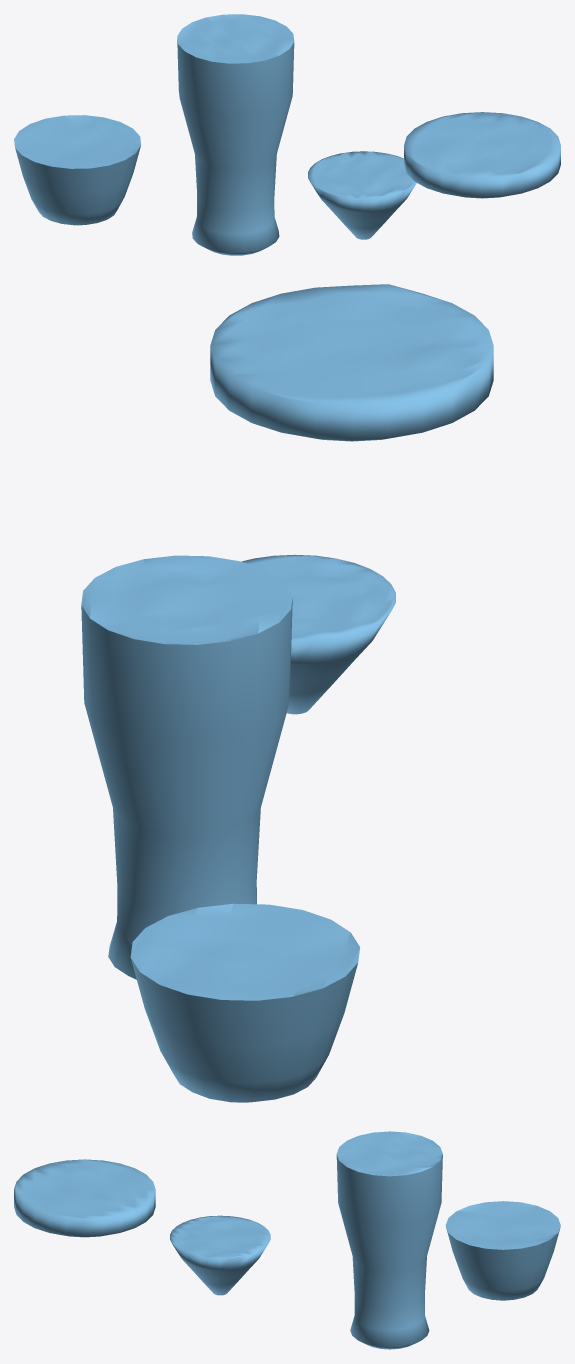
The model's file is liquid.fbx.
3 renders of one model, top to bottom at view 1: azimuth 30°, elevation 25°; view 2: azimuth 150°, elevation 25°; view 3: azimuth 270°, elevation 25°, orthographic. The views are drawn at different scales.
Visible parts, largest first — view 1: Liquid3, Liquid1, Liquid4, Liquid2; view 2: Liquid3, Liquid1, Liquid4, Liquid2; view 3: Liquid3, Liquid1, Liquid4, Liquid2.
Part boxes in pixels (x1,y1,x2,y2): Liquid3: (177, 14, 294, 255); Liquid1: (404, 112, 560, 198); Liquid4: (14, 115, 141, 225); Liquid2: (308, 151, 416, 239); Liquid3: (81, 555, 292, 979); Liquid1: (210, 284, 493, 441); Liquid4: (130, 903, 360, 1102); Liquid2: (241, 554, 395, 714); Liquid3: (336, 1131, 442, 1349); Liquid1: (14, 1159, 155, 1237); Liquid4: (445, 1201, 560, 1300); Liquid2: (170, 1215, 270, 1295).
Size of the model in its own units: 39.15 by 26.72 by 69.4.
